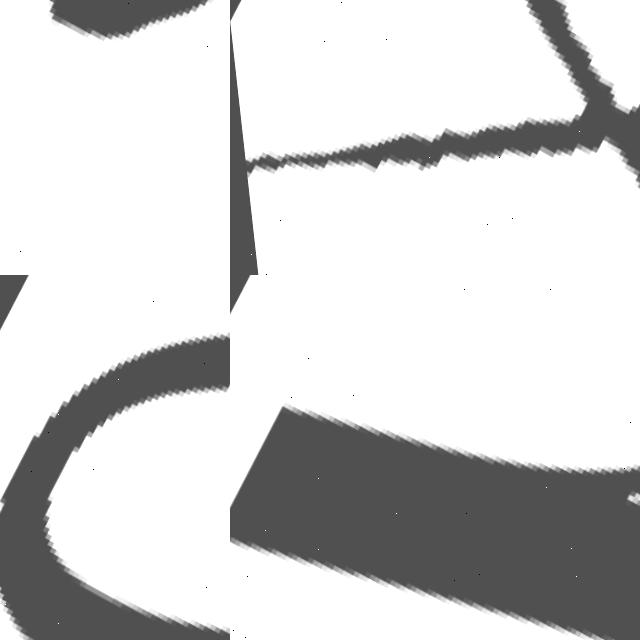C: (0, 333, 230, 640)
G: (0, 0, 230, 275)
R: (230, 275, 640, 640)
X: (230, 0, 640, 275)
